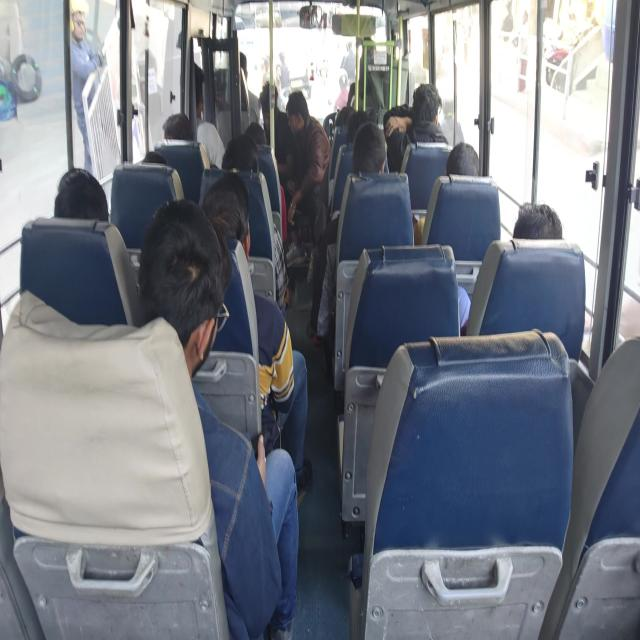person: (136, 198, 300, 638), (201, 172, 311, 498), (307, 121, 387, 344), (458, 201, 562, 334), (412, 141, 479, 333), (221, 134, 290, 316), (284, 90, 332, 266), (69, 0, 104, 174), (384, 82, 449, 172), (190, 61, 225, 169), (258, 82, 294, 181), (54, 167, 109, 221), (512, 202, 562, 240), (239, 51, 260, 125), (446, 141, 480, 177), (162, 112, 194, 142), (334, 70, 349, 111)
